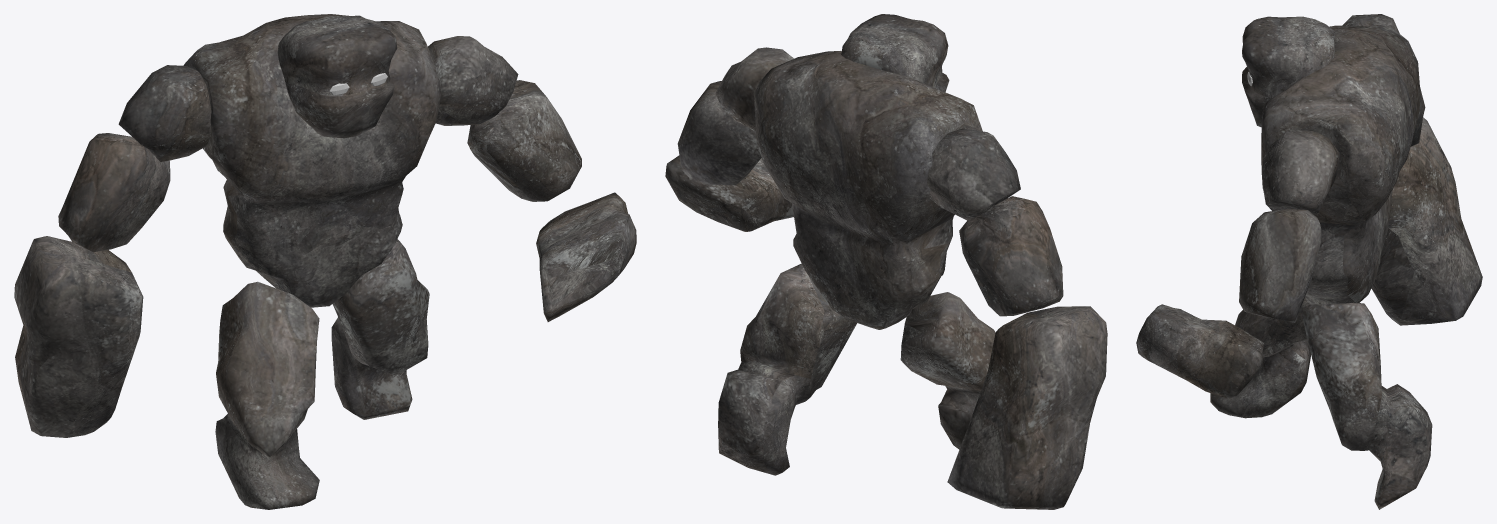
File: walk_000006.obj
The picture shows the model from 3 angles, left to right: view 1: azimuth 30°, elevation 25°; view 2: azimuth 150°, elevation 25°; view 3: azimuth 270°, elevation 25°; orthographic projection. The views are drawn at different scales.
Parts seen in each view (by area): view 1: hands&leg.001_ice.003, torso.001_ice.005, head.001_ice.004; view 2: hands&leg.001_ice.003, torso.001_ice.005, head.001_ice.004; view 3: hands&leg.001_ice.003, torso.001_ice.005, head.001_ice.004.
Boxes of the visible parts, x1=… form: hands&leg.001_ice.003: x1=14, y1=36, x2=636, y2=509; torso.001_ice.005: x1=183, y1=14, x2=441, y2=307; head.001_ice.004: x1=277, y1=15, x2=397, y2=138; hands&leg.001_ice.003: x1=665, y1=47, x2=1107, y2=509; torso.001_ice.005: x1=753, y1=51, x2=982, y2=329; head.001_ice.004: x1=841, y1=14, x2=949, y2=92; hands&leg.001_ice.003: x1=1136, y1=14, x2=1482, y2=509; torso.001_ice.005: x1=1261, y1=24, x2=1420, y2=304; head.001_ice.004: x1=1242, y1=16, x2=1335, y2=127.
Size of the model in its own units: 11.49 by 9.4 by 6.89.
2 materials, 1 textured.
